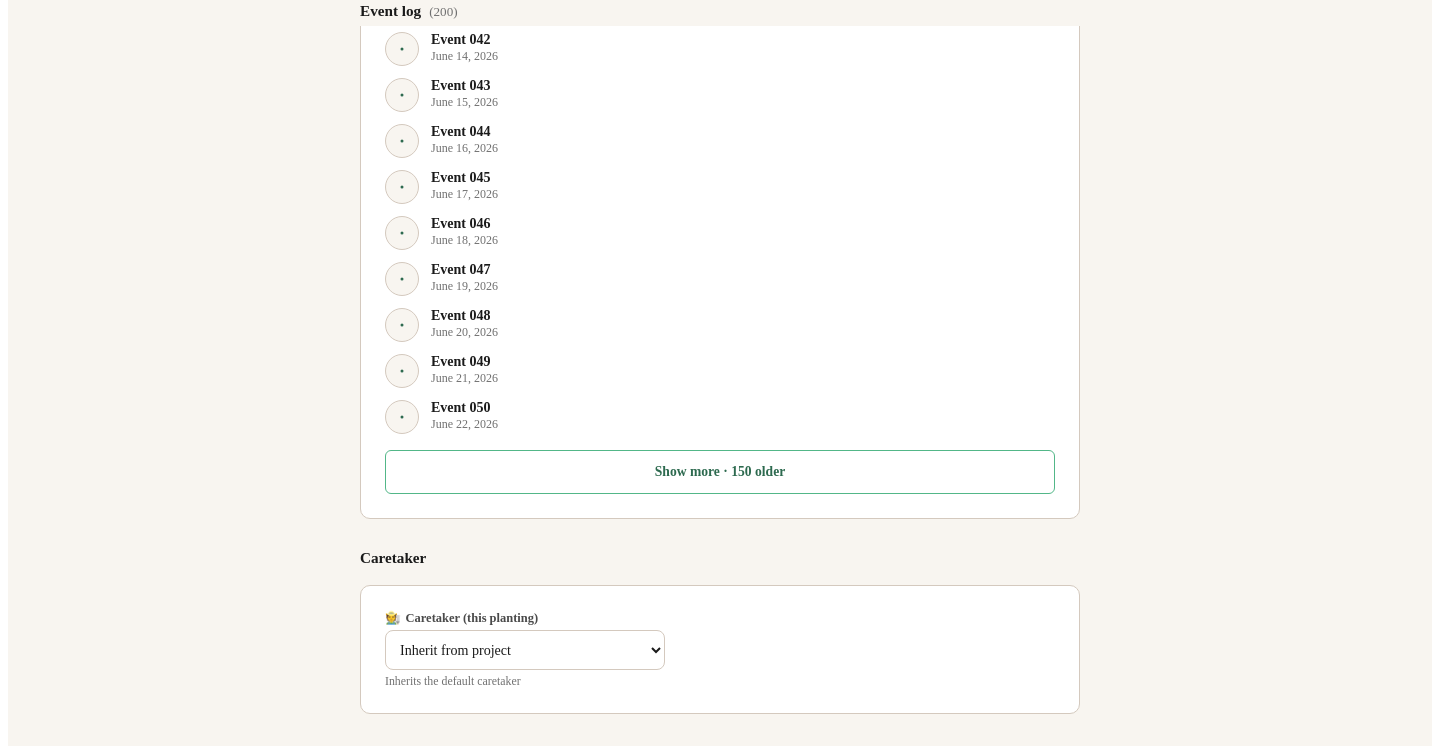
PlantingDetail event log — raise-and-page (V4-EVENTHISTPAGE-001) › says so plainly when the server ceiling truncated the history
The image size is (1440, 754).
(page scrolled)
Click the button with test id "event-log-show-more" at (720, 472), box [385,450,1055,494]
(page scrolled)
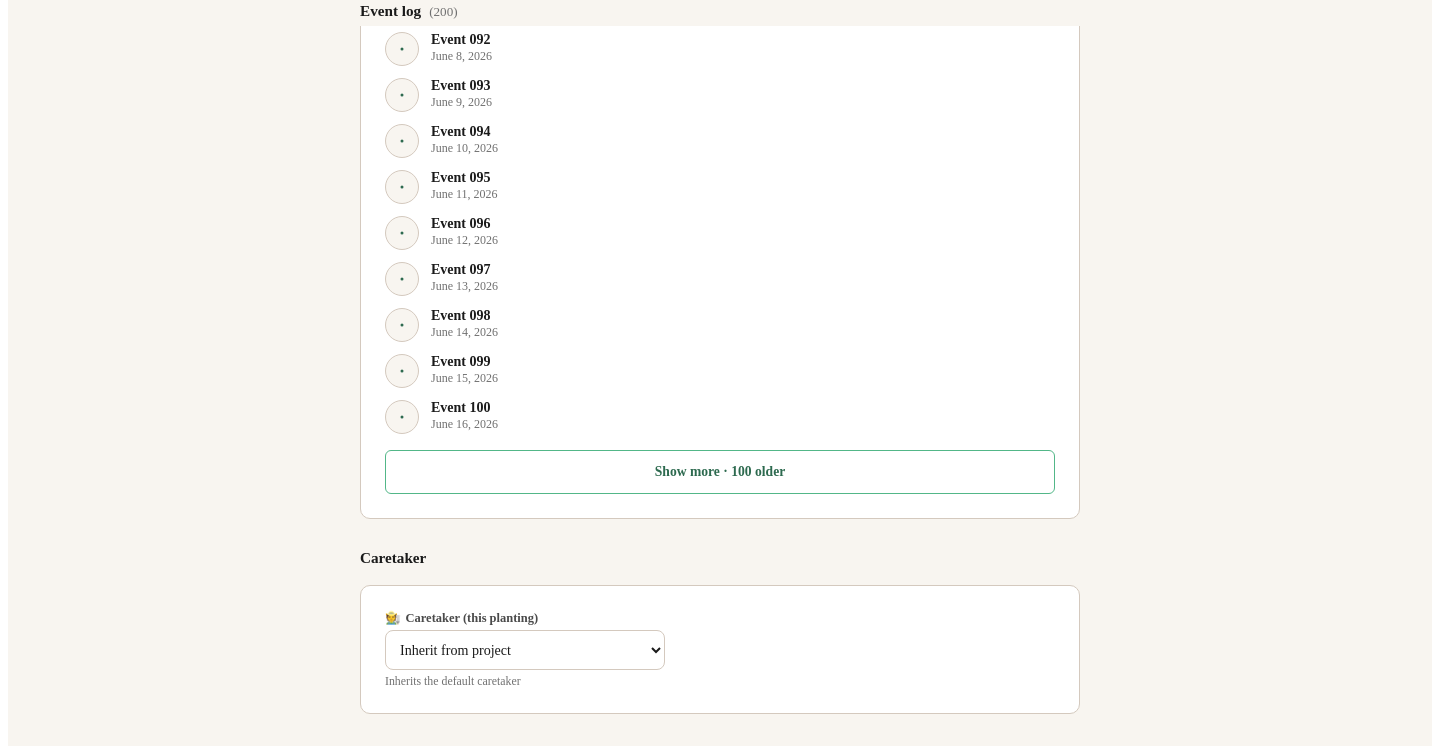
Click the button with test id "event-log-show-more" at (720, 472), box [385,450,1055,494]
(page scrolled)
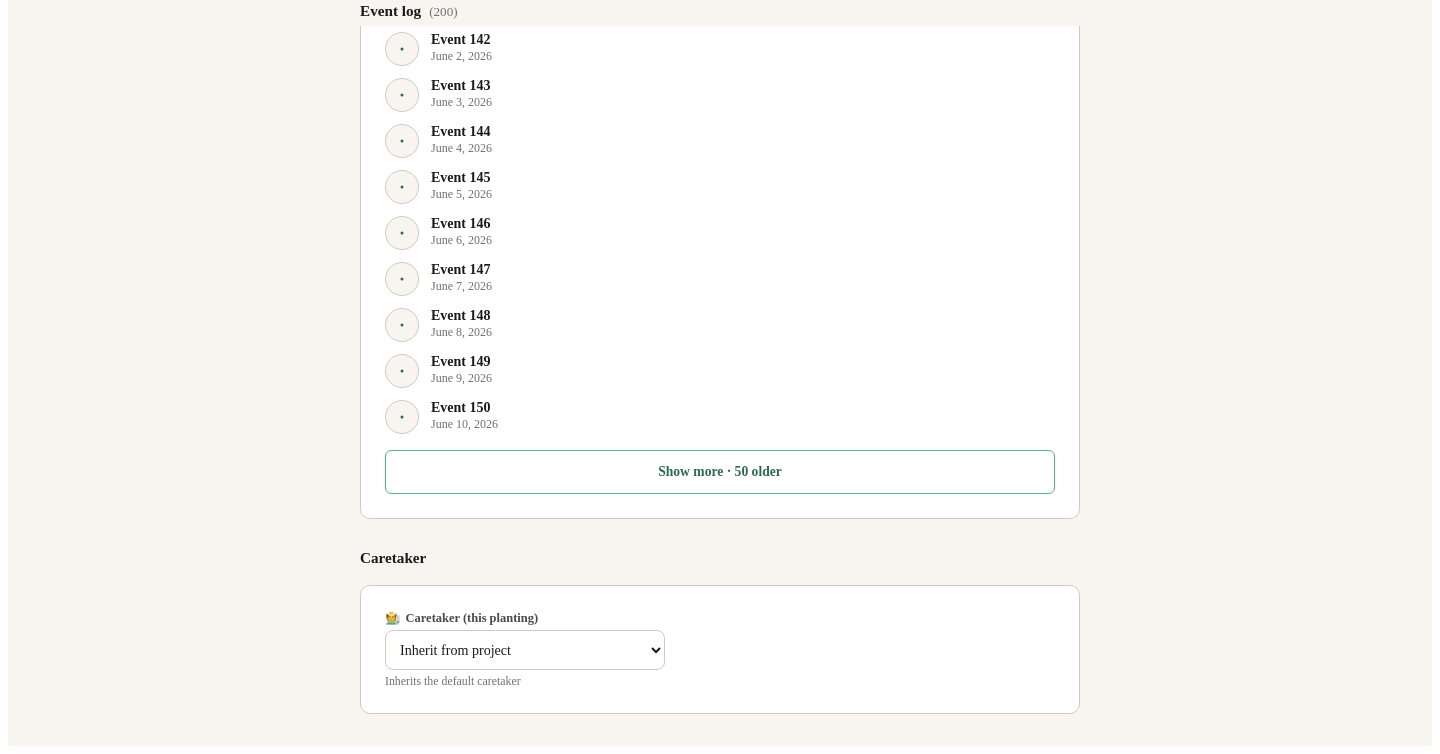
Click the button with test id "event-log-show-more" at (720, 472), box [385,450,1055,494]
(page scrolled)
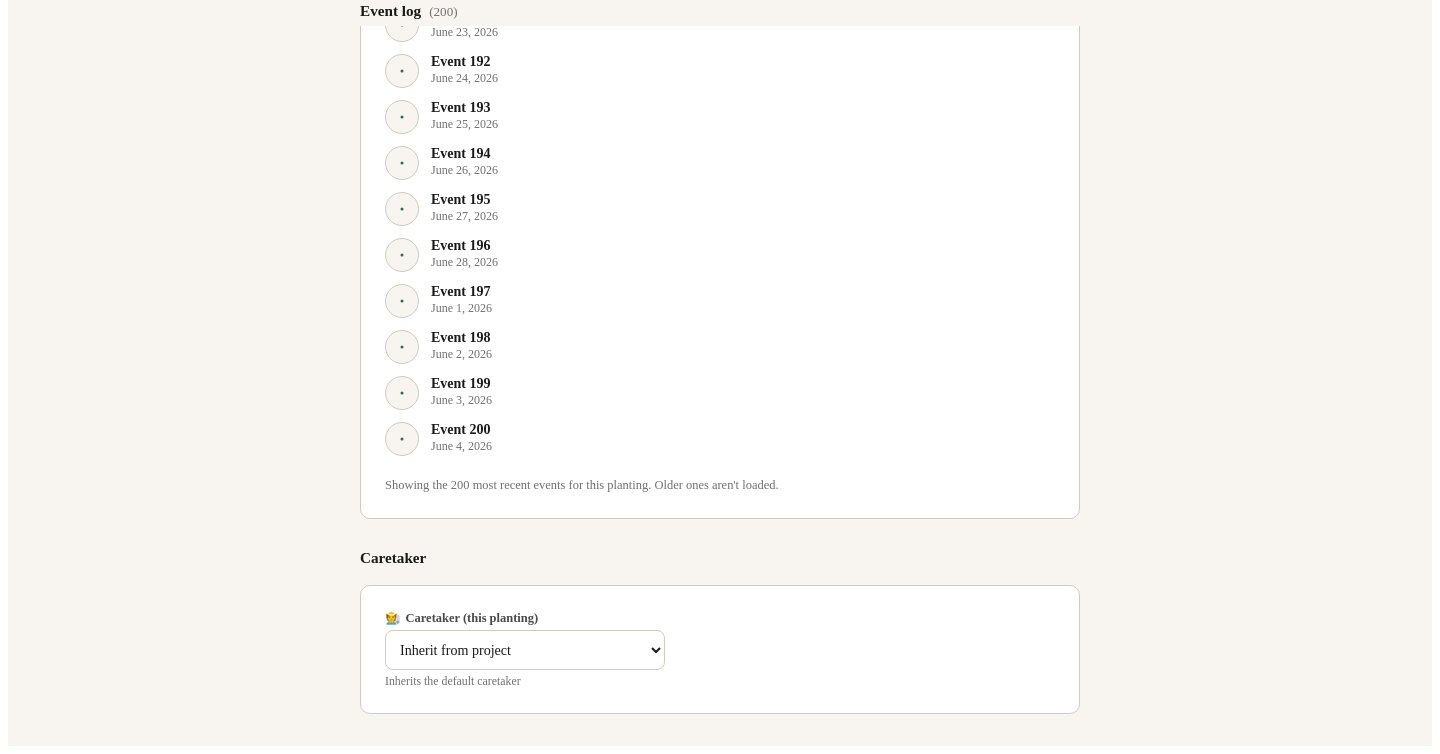
Now the text "Event 200" is shown, box [431,422,490,437]
Now the text with test id "event-log-ceiling" is shown, box [385,478,778,492]
